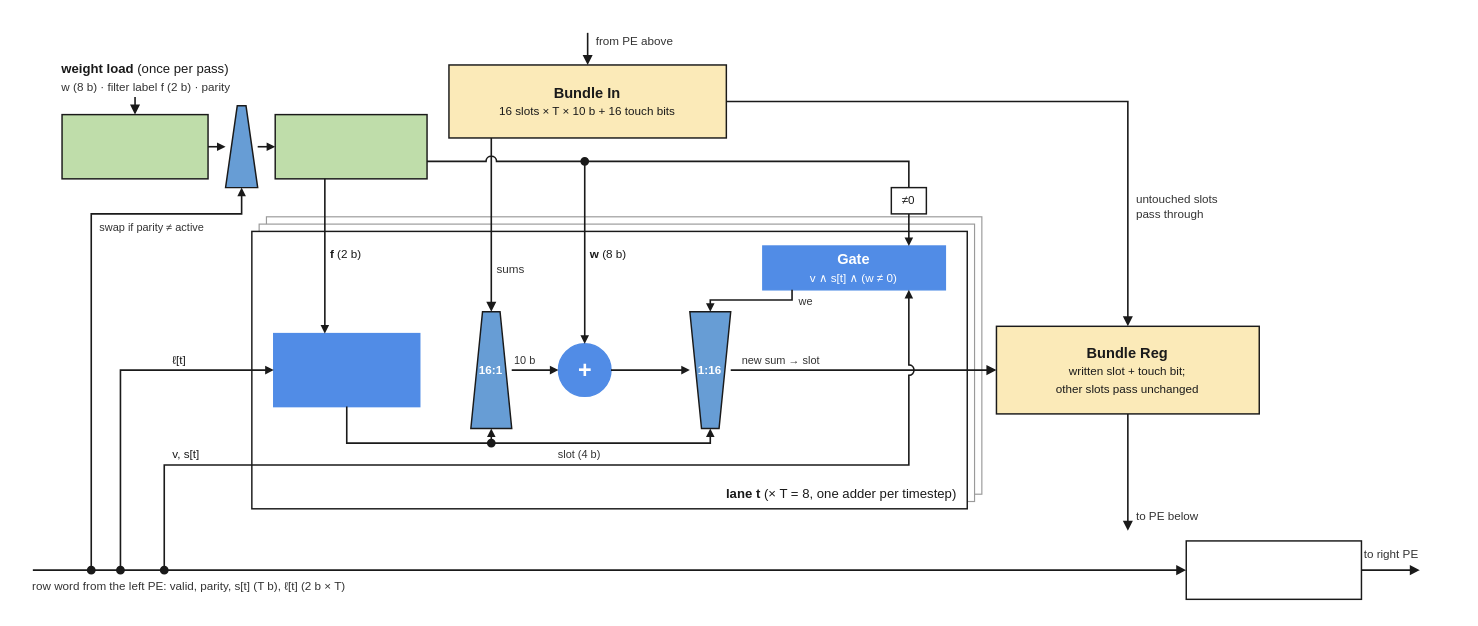
Image size: 1478x626. Some labels were removed from this diagram. The centre of each missing label's shape, as x and y in pixels:
Active Reg w | f | parity: the point at 350,146
Row Reg valid, parity, s[t], ℓ[t]: the point at 1273,569
Shadow Reg w | f | parity: the point at 134,146
Slot Index {f, ℓ[t]} → 4 b: the point at 346,369
